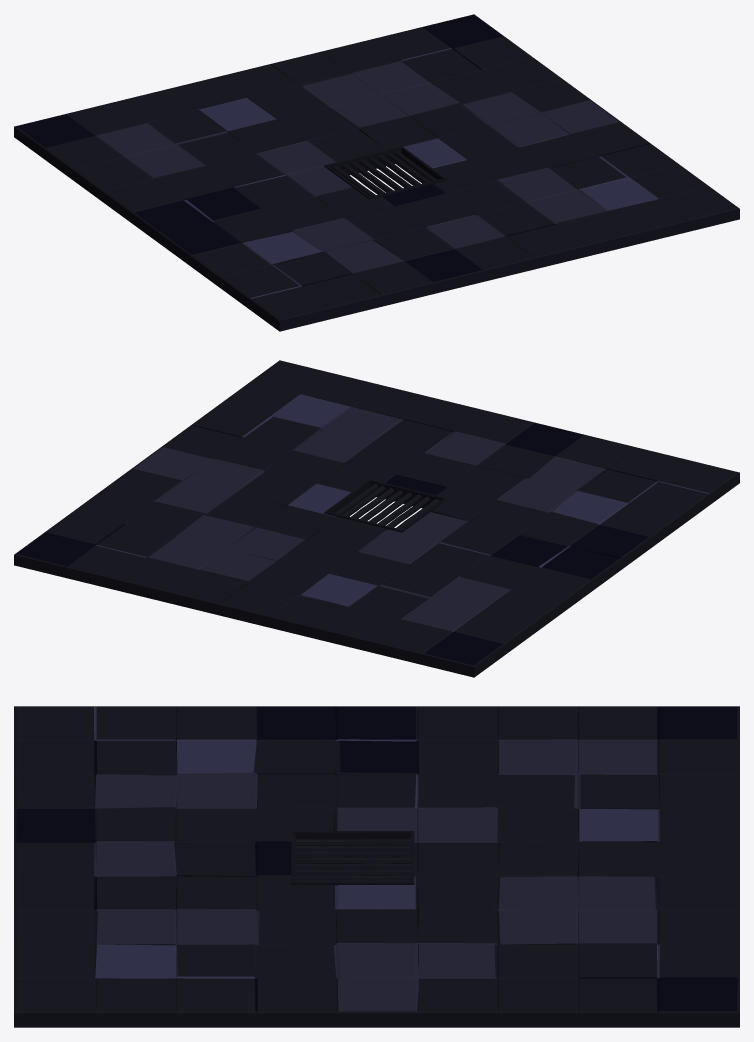
The model's file is floor with a lattice .fbx.
3 renders of one model, top to bottom at view 1: azimuth 30°, elevation 25°; view 2: azimuth 150°, elevation 25°; view 3: azimuth 270°, elevation 25°, orthographic. The views are drawn at different scales.
Parts seen in each view (by area): view 1: floor with a lattice; view 2: floor with a lattice; view 3: floor with a lattice.
Boxes of the visible parts, x1,y1,x2,y2 form: floor with a lattice: (14,14,739,331); floor with a lattice: (14,360,739,677); floor with a lattice: (14,706,739,1027).
Bounding box in the file's own units: 600 × 18.55 × 600.
